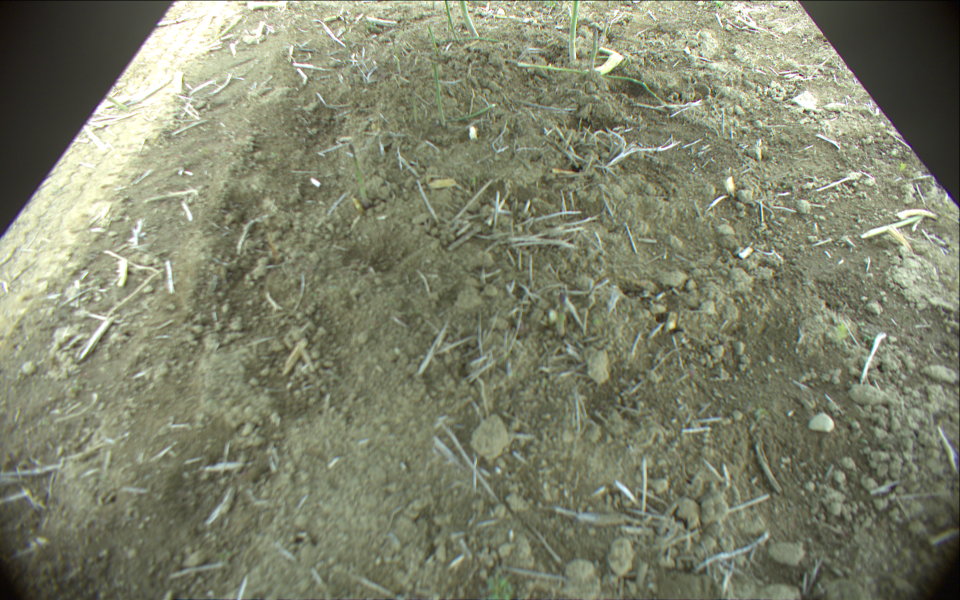aspa: (514, 60, 667, 101), (426, 29, 448, 124), (349, 142, 370, 207), (586, 24, 600, 76), (459, 1, 479, 37), (570, 1, 580, 63), (443, 1, 457, 41), (598, 16, 609, 50)
